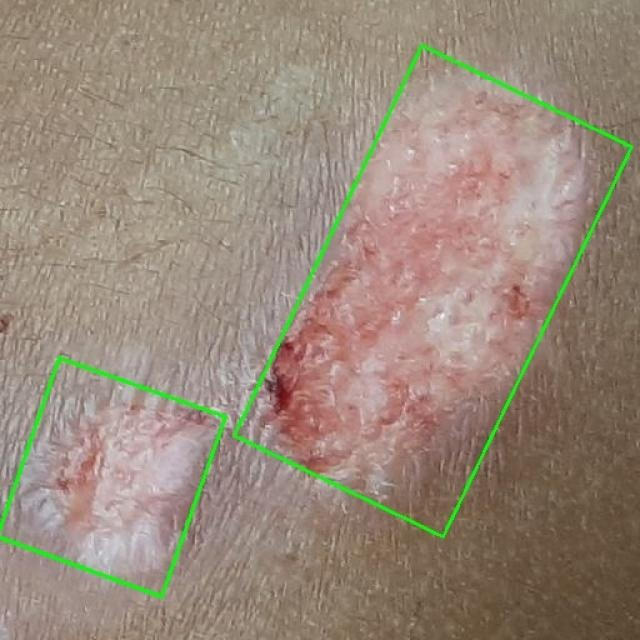Eczema: (234, 46, 632, 537), (0, 357, 227, 596)
